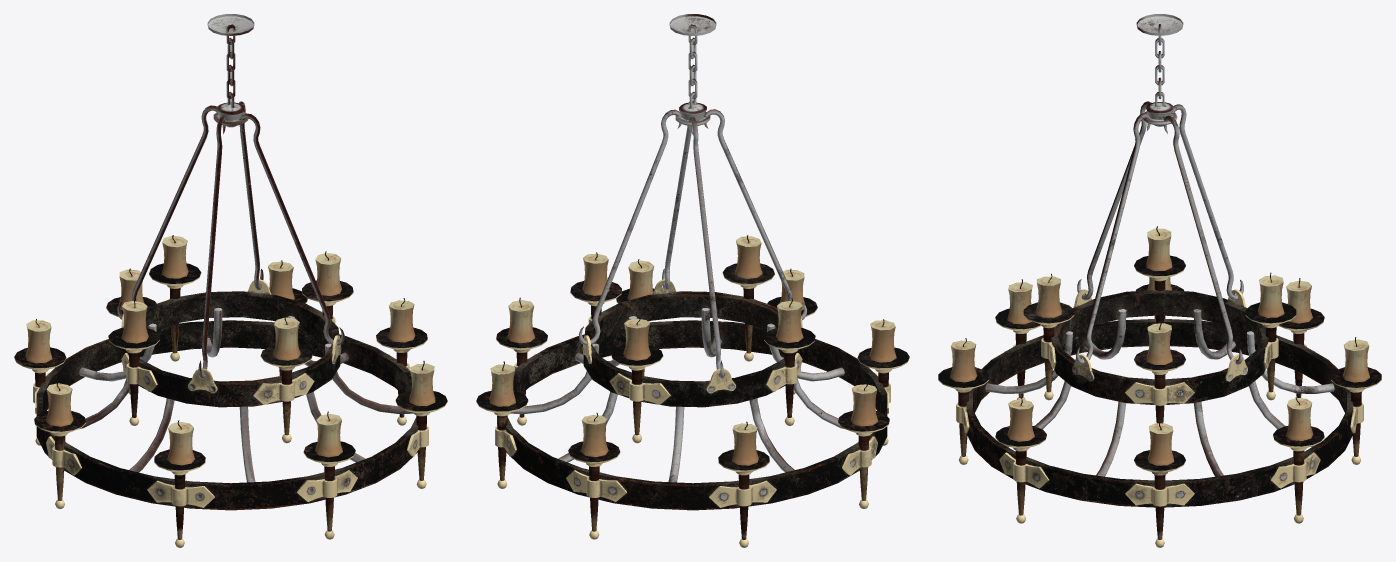
The model's file is Prop_MedievalChandelier.fbx.
The picture shows the model from 3 angles, left to right: view 1: azimuth 30°, elevation 25°; view 2: azimuth 150°, elevation 25°; view 3: azimuth 270°, elevation 25°; orthographic projection.
Visible parts, largest first — view 1: Prop_MedievalChandelier; view 2: Prop_MedievalChandelier; view 3: Prop_MedievalChandelier.
Boxes of the visible parts, box(x1,y1,x2,y2) form: Prop_MedievalChandelier: box(14, 14, 447, 547); Prop_MedievalChandelier: box(476, 14, 909, 547); Prop_MedievalChandelier: box(938, 14, 1381, 547).
Bounding box in the file's own units: 134 × 147 × 134.
